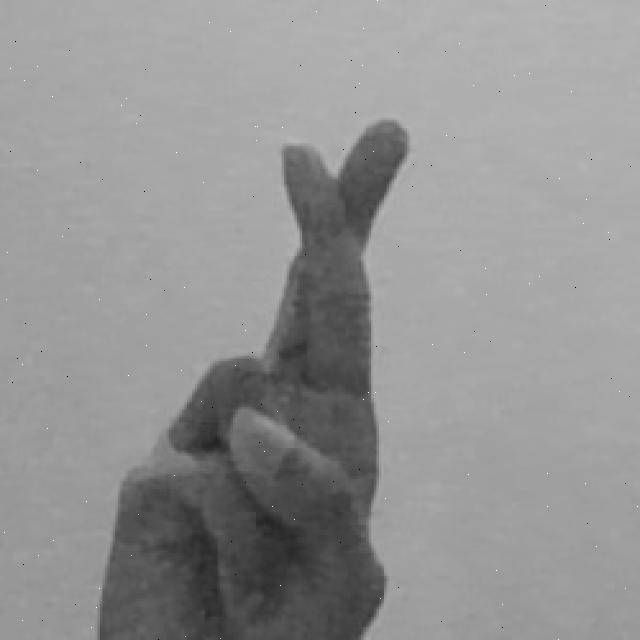R: (95, 118, 412, 640)
